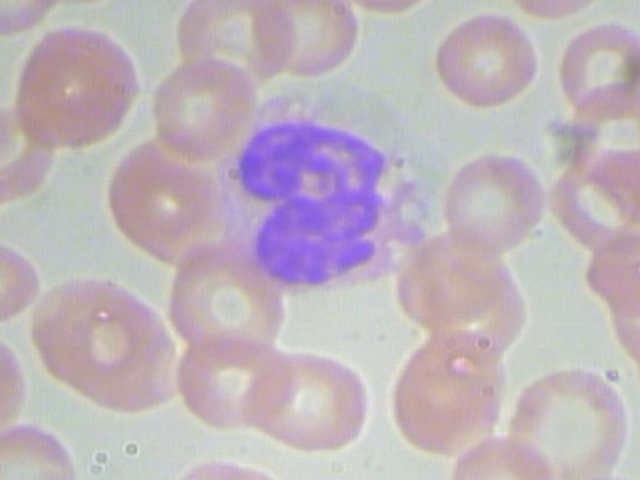RBC: (8, 20, 144, 158), (153, 234, 292, 367), (498, 356, 637, 480), (380, 335, 506, 458), (239, 348, 371, 462), (163, 336, 301, 436), (423, 8, 546, 113), (431, 145, 554, 250), (150, 53, 262, 162), (544, 15, 640, 119), (255, 0, 361, 81), (438, 434, 558, 480), (580, 227, 640, 314)
WBC: (205, 82, 441, 309)
